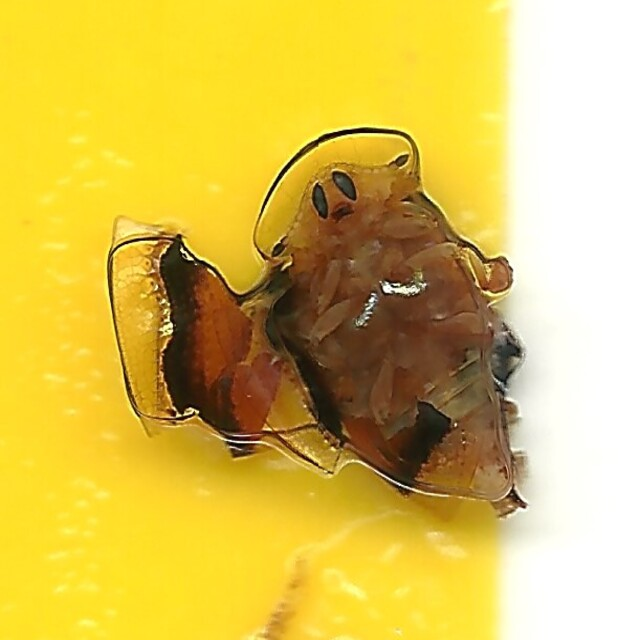Coleoptera: (105, 116, 535, 524)
